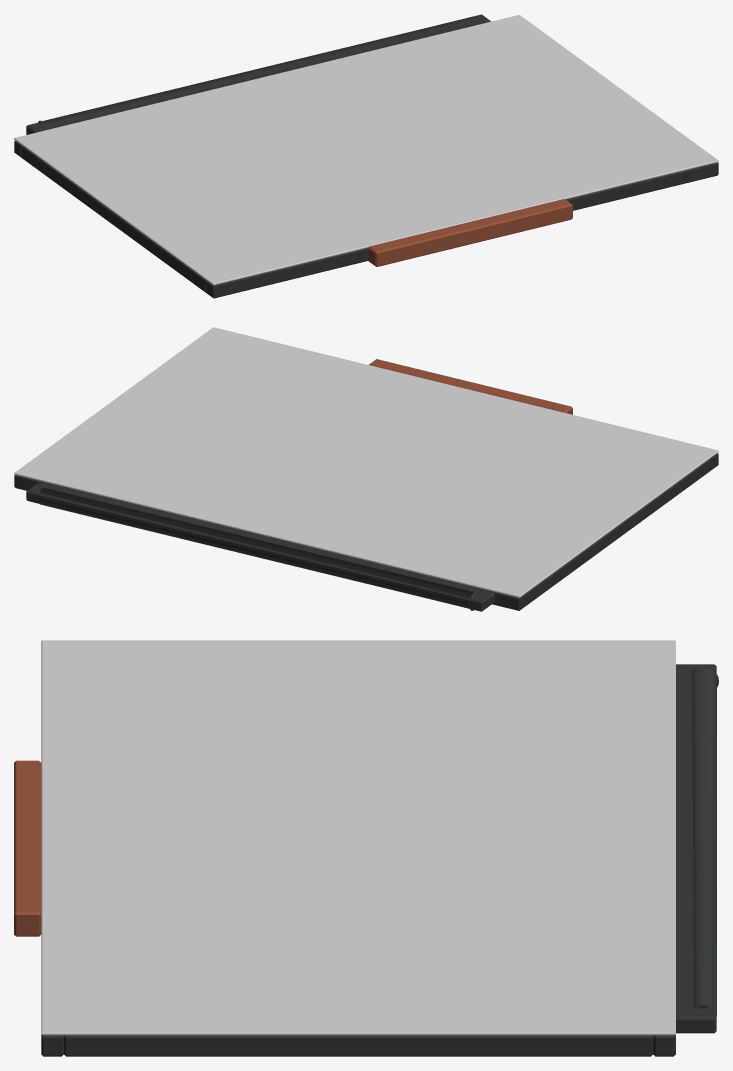
Rendered from dual_compartment_bin_medium_lid.glb.
3 renders of one model, top to bottom at view 1: azimuth 30°, elevation 25°; view 2: azimuth 150°, elevation 25°; view 3: azimuth 270°, elevation 25°, orthographic. The views are drawn at different scales.
Visible parts, largest first — view 1: dual_compartment_bin_medium_lid; view 2: dual_compartment_bin_medium_lid; view 3: dual_compartment_bin_medium_lid.
Boxes of the visible parts, bbox=[...] form: dual_compartment_bin_medium_lid: bbox=[14, 14, 718, 298]; dual_compartment_bin_medium_lid: bbox=[14, 327, 718, 611]; dual_compartment_bin_medium_lid: bbox=[14, 640, 718, 1056].
Bounding box in the file's own units: 0.41 × 0.014 × 0.311.
